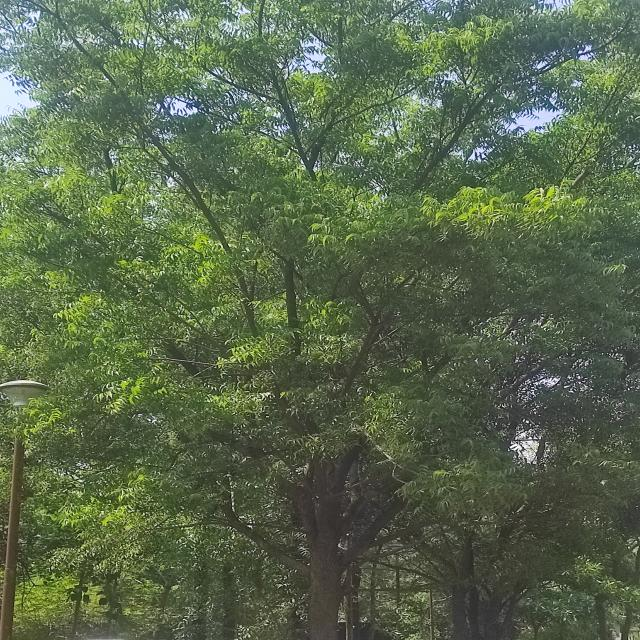Neem-Tree: (27, 16, 640, 571)
